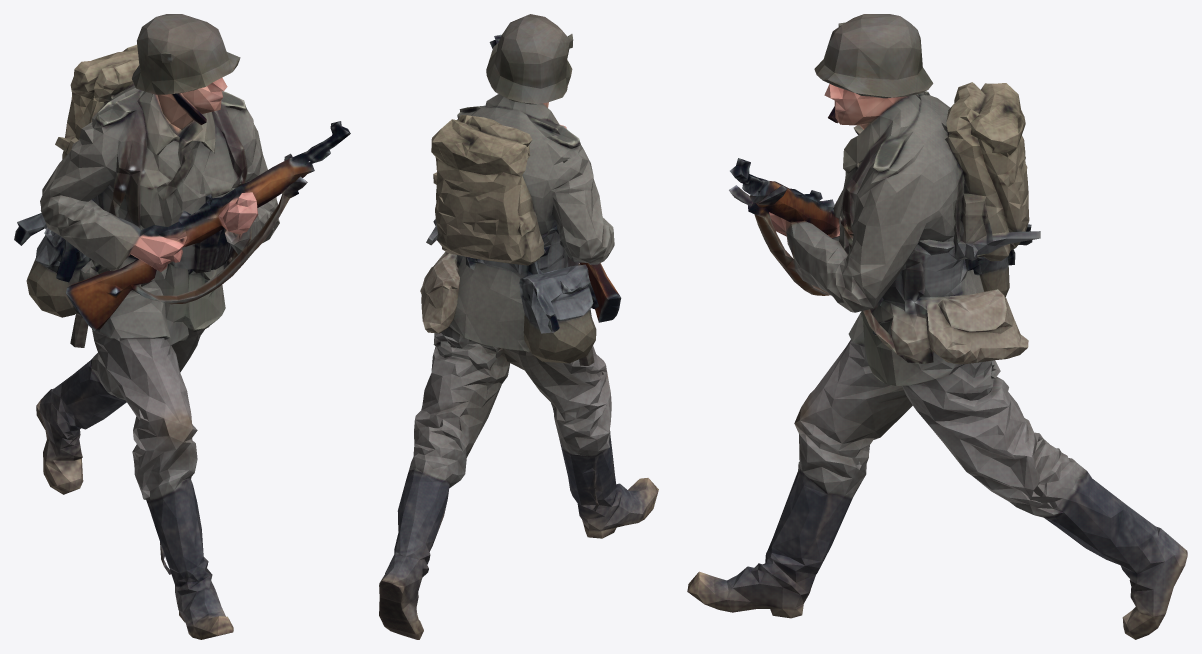
Rendered from inf_walk_a.obj.
The picture shows the model from 3 angles, left to right: view 1: azimuth 30°, elevation 25°; view 2: azimuth 150°, elevation 25°; view 3: azimuth 270°, elevation 25°; orthographic projection. The views are drawn at different scales.
Parts seen in each view (by area): view 1: inf_walk_a; view 2: inf_walk_a; view 3: inf_walk_a.
Boxes of the visible parts, box(x1,y1,x2,y2) form: inf_walk_a: box(14, 14, 350, 639); inf_walk_a: box(379, 14, 658, 639); inf_walk_a: box(687, 14, 1187, 639).
Bounding box in the file's own units: 0.7197 × 1.8 × 1.33.
Materials: 1 (1 with a texture image).
